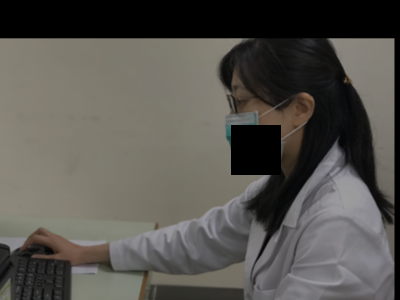with_mask: (225, 80, 291, 166)
